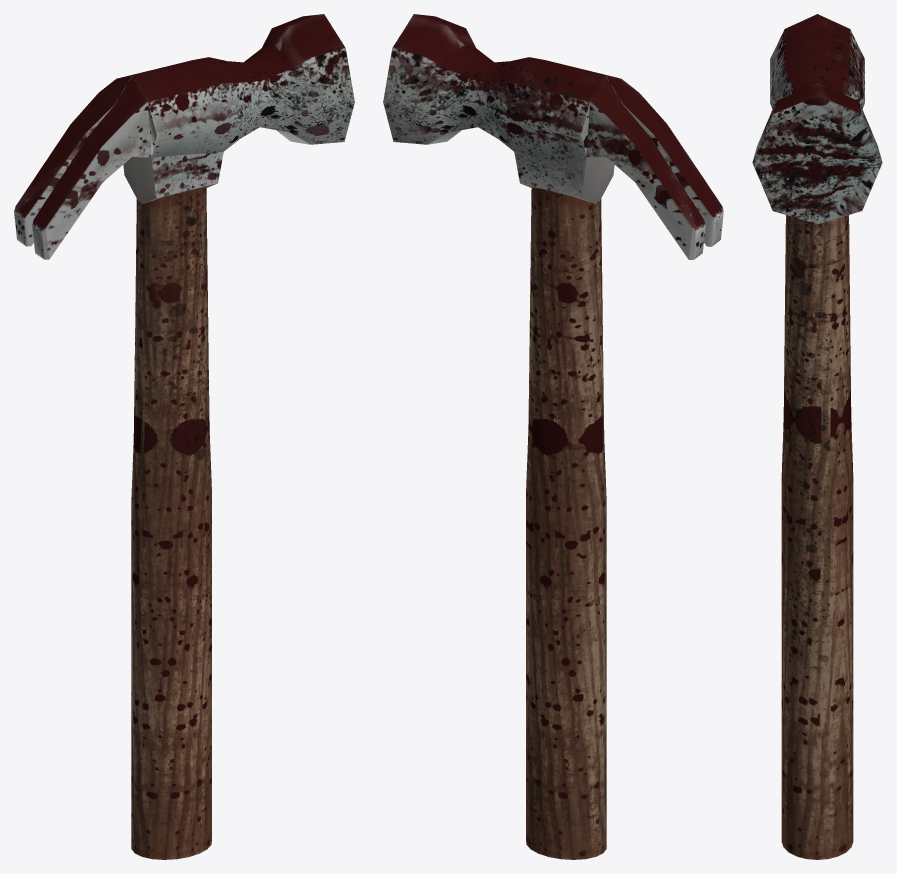
Rendered from Hammer.glb.
3 views of the same model, side by side, from view 1: azimuth 30°, elevation 25°; view 2: azimuth 150°, elevation 25°; view 3: azimuth 270°, elevation 25° (orthographic). The views are drawn at different scales.
Visible parts, largest first — view 1: Object_2; view 2: Object_2; view 3: Object_2.
Part boxes in pixels (bbox=[...]): Object_2: bbox=[14, 14, 354, 859]; Object_2: bbox=[383, 14, 723, 859]; Object_2: bbox=[752, 14, 882, 859].
Size of the model in its own units: 4.12 by 10.53 by 1.51.
Materials: 1 (1 with a texture image).
